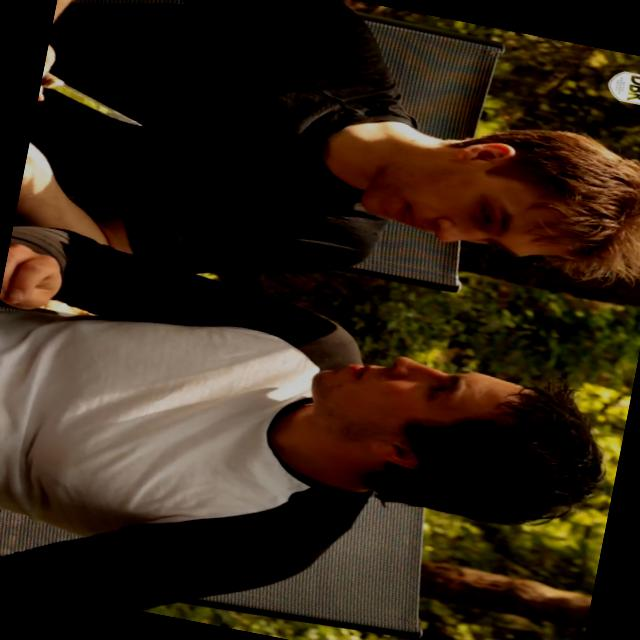knife: (34, 49, 168, 139)
